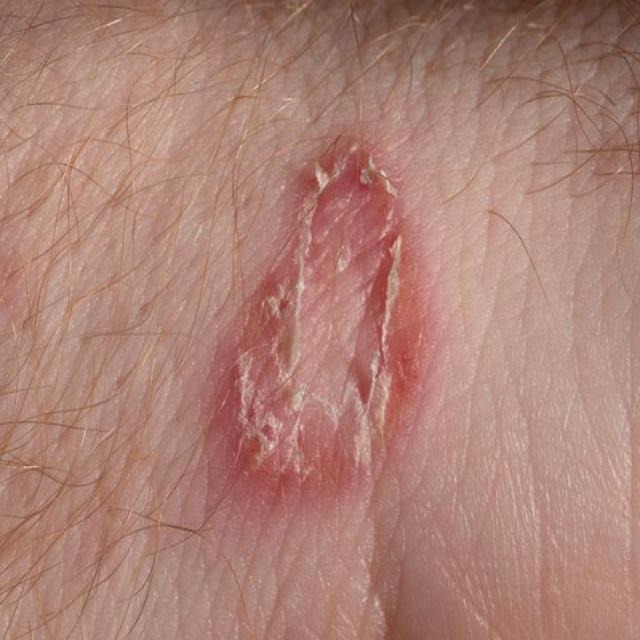Ringworm: (200, 118, 465, 535)
